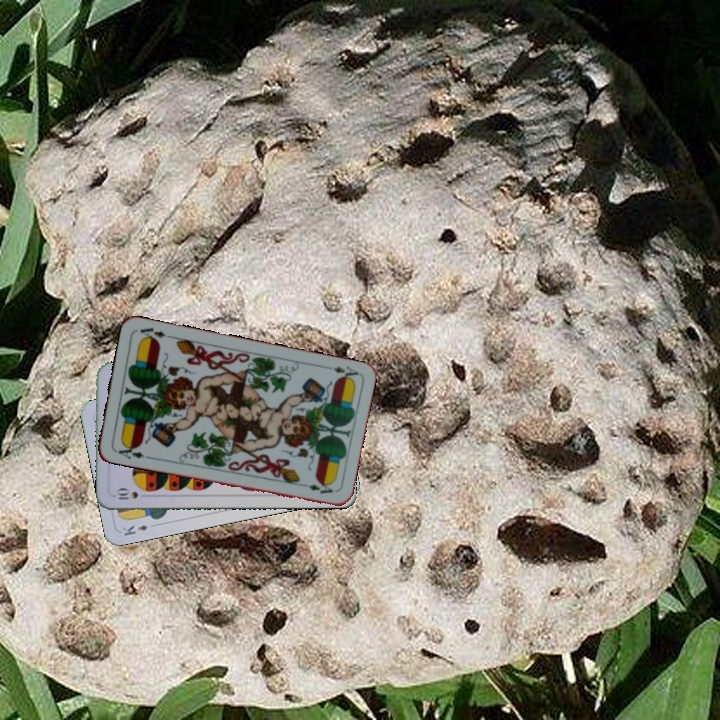EA: (320, 362, 361, 383), (111, 440, 147, 462)
EK: (118, 521, 151, 538)
S10: (113, 486, 141, 502)
